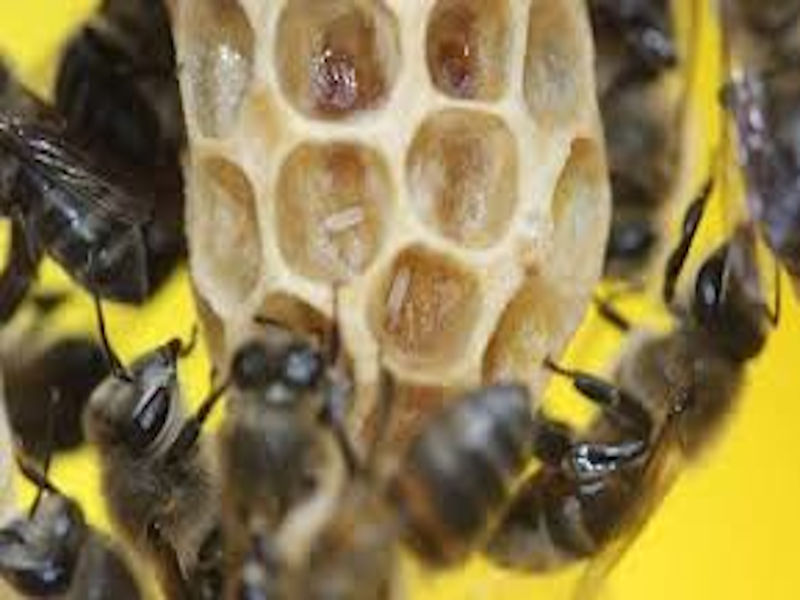abeja: (461, 196, 773, 580), (75, 305, 310, 600)
